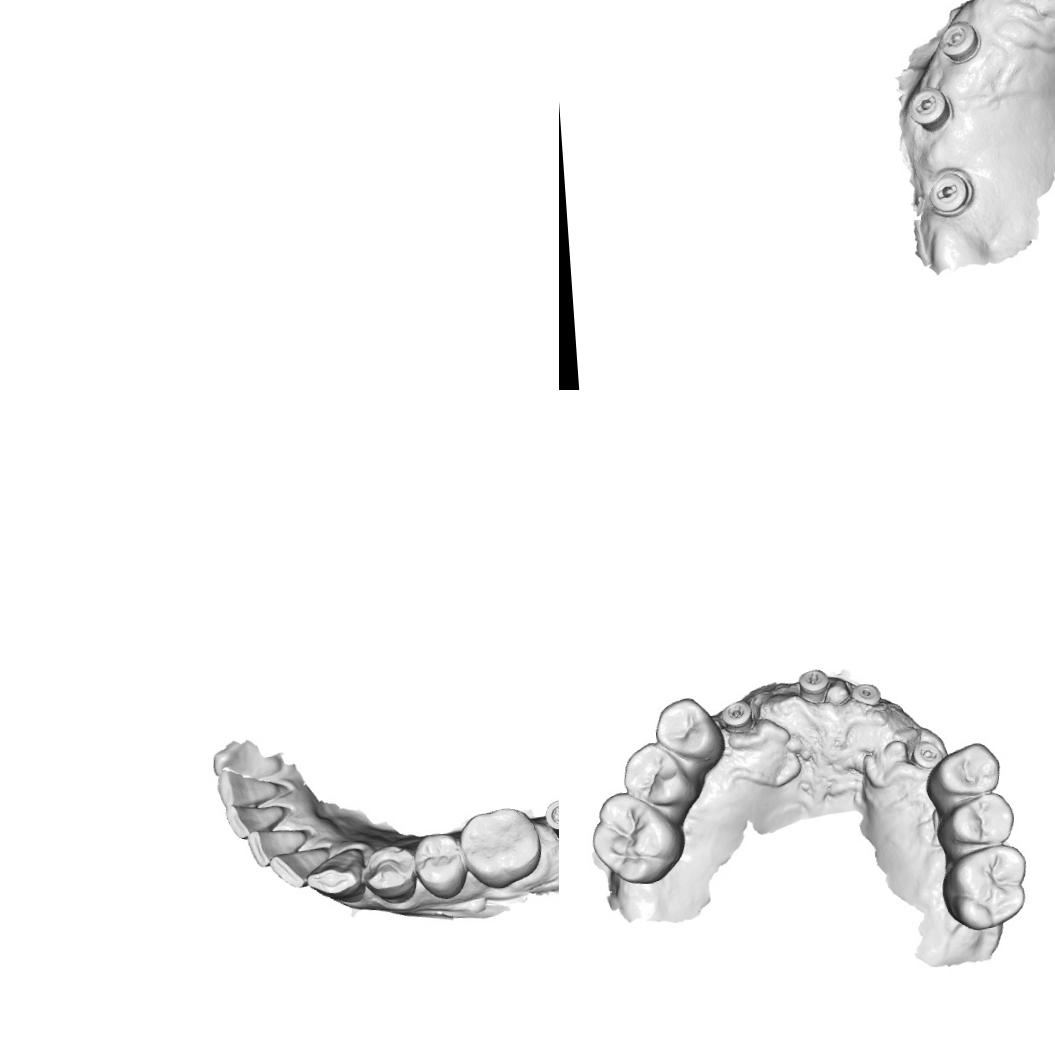canine: (304, 846, 368, 906)
implant: (847, 679, 884, 710), (542, 794, 559, 846)
implant_minus: (922, 164, 972, 218), (906, 82, 954, 132), (934, 18, 980, 64), (795, 666, 832, 706), (907, 738, 946, 771)
implant_plus: (712, 688, 758, 738)
incisor: (268, 844, 331, 890), (214, 766, 283, 808), (223, 801, 286, 841), (246, 827, 305, 869)
molar: (586, 786, 688, 889), (938, 840, 1032, 932), (458, 804, 544, 890)
premolar: (618, 737, 695, 814), (932, 788, 1018, 856), (921, 738, 1003, 809), (652, 694, 728, 769), (413, 831, 466, 901), (362, 842, 416, 906)
